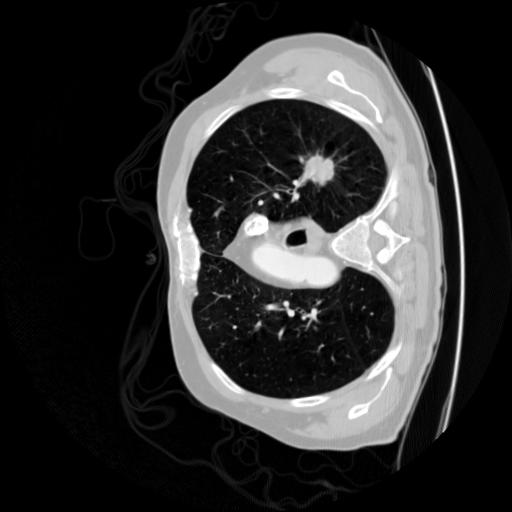nodule: (299, 148, 338, 187)
